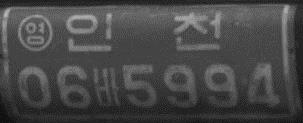0: (16, 64, 52, 112)
4: (244, 61, 281, 112)
5: (121, 62, 158, 109)
6: (55, 64, 91, 111)
9: (203, 63, 239, 111), (163, 62, 198, 111)
바: (90, 64, 122, 109)
영: (17, 13, 53, 52)
인천_D: (65, 9, 222, 53)
